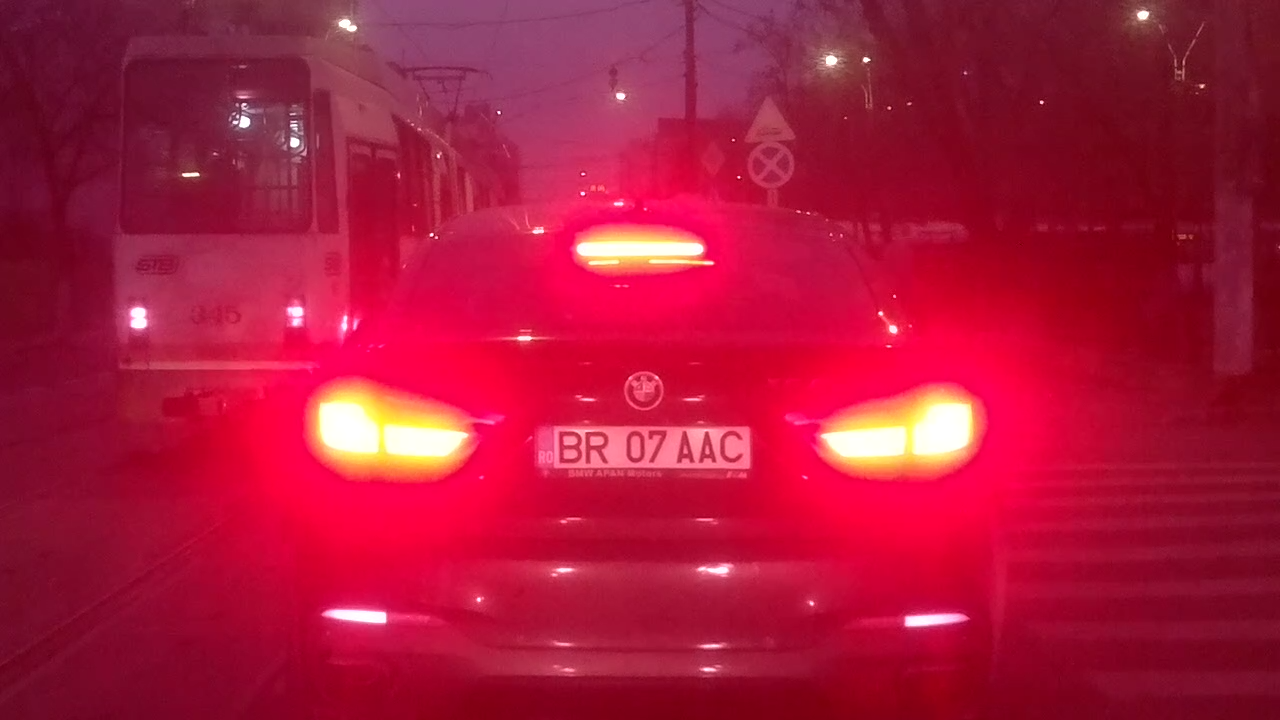license-plate: (525, 418, 760, 475)
